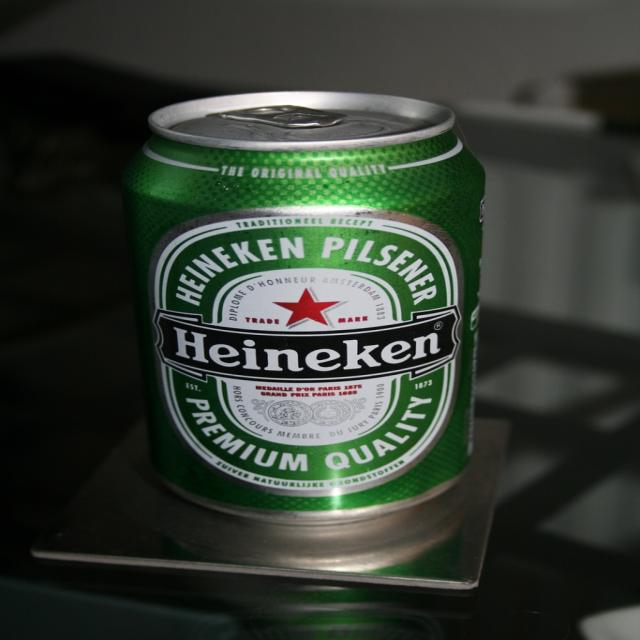heineken: (151, 215, 458, 493)
